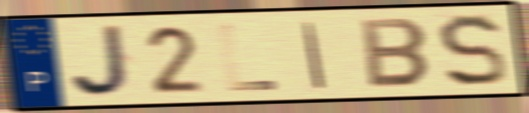2: (143, 24, 208, 96)
B: (358, 17, 434, 90)
I: (300, 19, 329, 91)
J: (67, 22, 137, 100)
L: (217, 22, 281, 93)
S: (434, 11, 509, 90)
